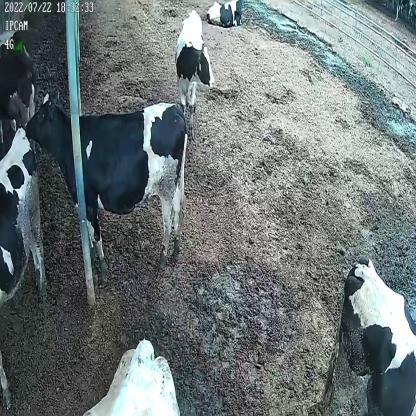cow: (23, 89, 191, 279), (174, 7, 215, 136), (205, 0, 243, 29)
